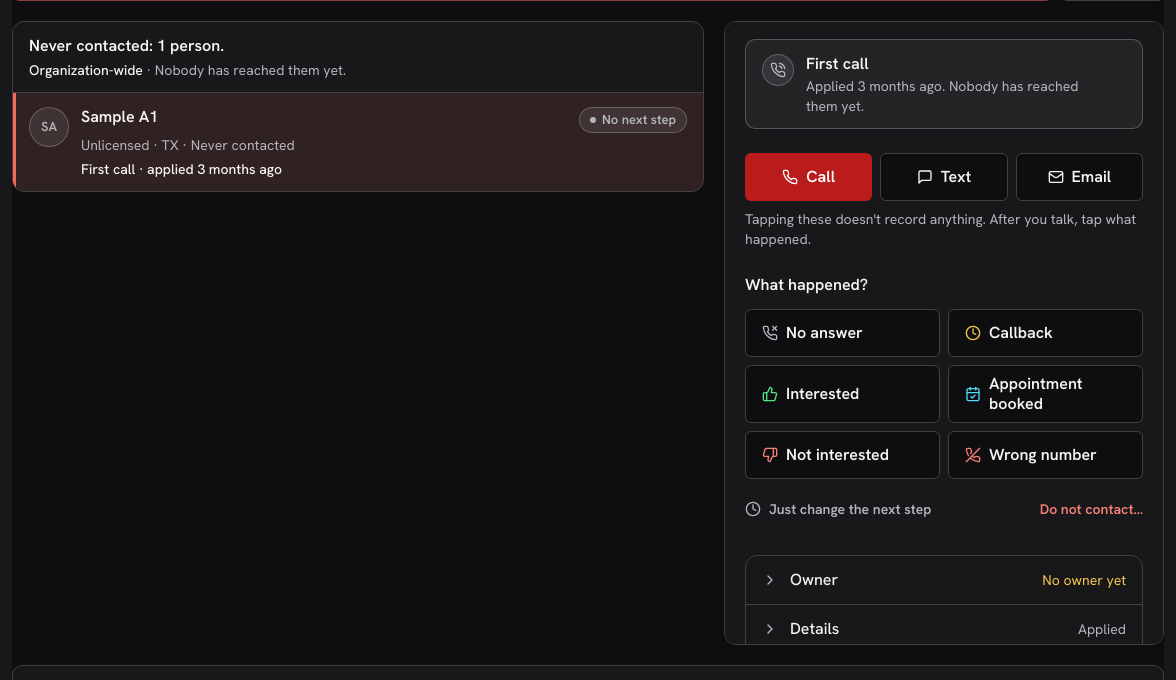
Test: RecruitingWorklist › No answer prefills Try again for tomorrow 10 AM, so one tap saves it
This screenshot has width=1176, height=680.
Later steps or results of the test are not shown.
(page scrolled)
Click the button "No answer" at (842, 333), box x1=745 y1=309 x2=940 y2=357
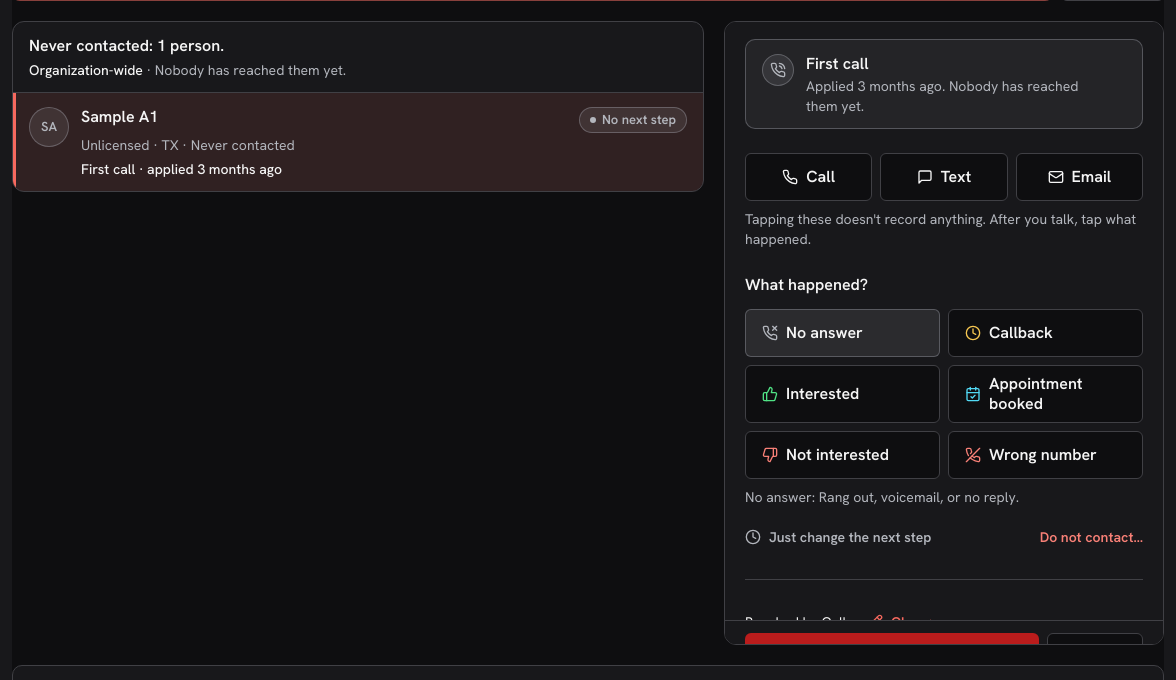
Now the text "No answer: Rang out, voicemail, or no reply." is shown, box x1=745 y1=488 x2=1019 y2=506
